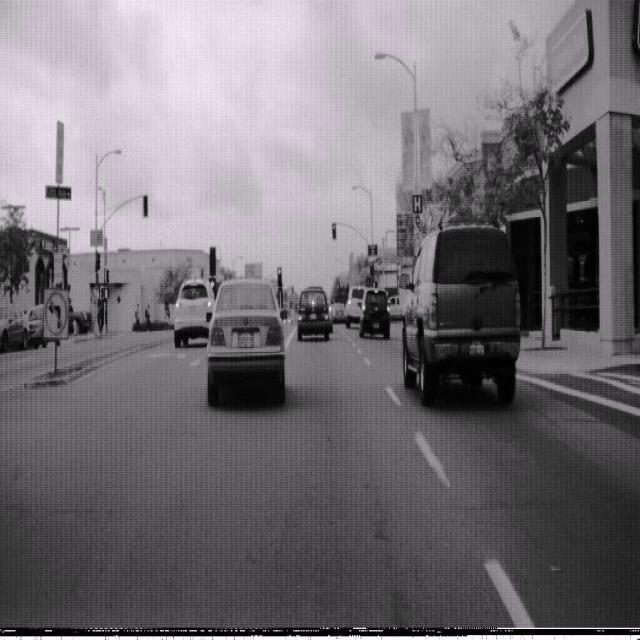noLeftTurn: (43, 287, 69, 340)
